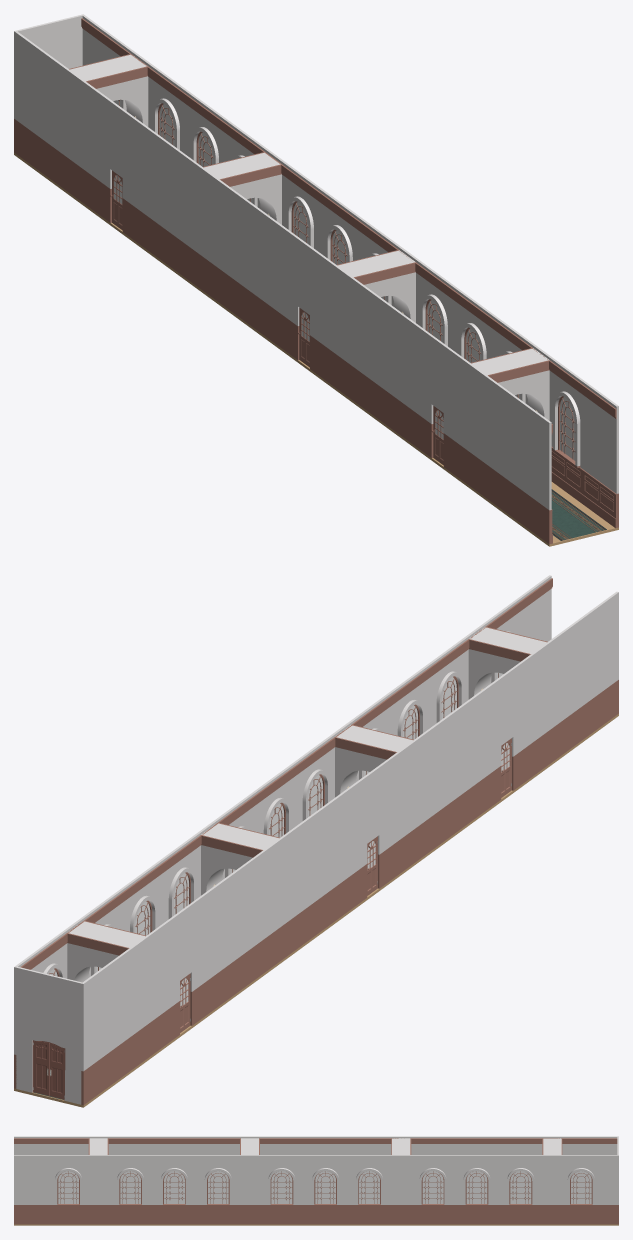
Rendered from 381_洋館廊下view.glb.
3 views of the same model, one above another, from view 1: azimuth 30°, elevation 25°; view 2: azimuth 150°, elevation 25°; view 3: azimuth 270°, elevation 25° (orthographic). The views are drawn at different scales.
Parts seen in each view (by area): view 1: 西壁, 東壁, 柱4, 柱1, 柱2, 柱3, 床, 北壁, 絨毯; view 2: 西壁, 東壁, 北壁, 柱1, 柱3, 柱2, 柱4, 床, ドア右, ドア左; view 3: 東壁, 西壁, 床, 柱1, 柱3, 柱4, 柱2.
Boxes of the visible parts, x1,y1,x2,y2 form: 西壁: (14, 30, 552, 544); 東壁: (81, 14, 618, 528); 柱4: (69, 54, 148, 126); 柱1: (471, 348, 549, 420); 柱2: (337, 250, 416, 322); 柱3: (203, 152, 281, 224); 床: (14, 152, 618, 546); 北壁: (16, 15, 82, 68); 絨毯: (551, 489, 606, 540); 西壁: (81, 591, 618, 1105); 東壁: (14, 575, 552, 1088); 北壁: (16, 966, 82, 1104); 柱1: (468, 627, 547, 699); 柱3: (201, 823, 279, 895); 柱2: (334, 724, 413, 797); 柱4: (67, 921, 145, 982); 床: (14, 713, 618, 1107); ドア右: (33, 1041, 49, 1095); ドア左: (49, 1043, 64, 1099); 東壁: (14, 1155, 618, 1224); 西壁: (14, 1136, 618, 1154); 床: (14, 1224, 618, 1225); 柱1: (88, 1138, 108, 1154); 柱3: (391, 1138, 411, 1154); 柱4: (542, 1138, 562, 1154); 柱2: (240, 1138, 259, 1154).
Bounding box in the file's own units: 3.19 × 5.1 × 40.
30 materials, 5 textured.
